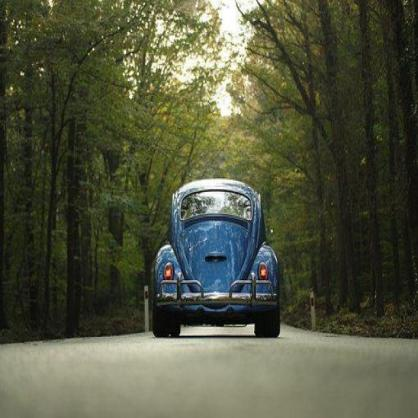car: (151, 179, 284, 338)
